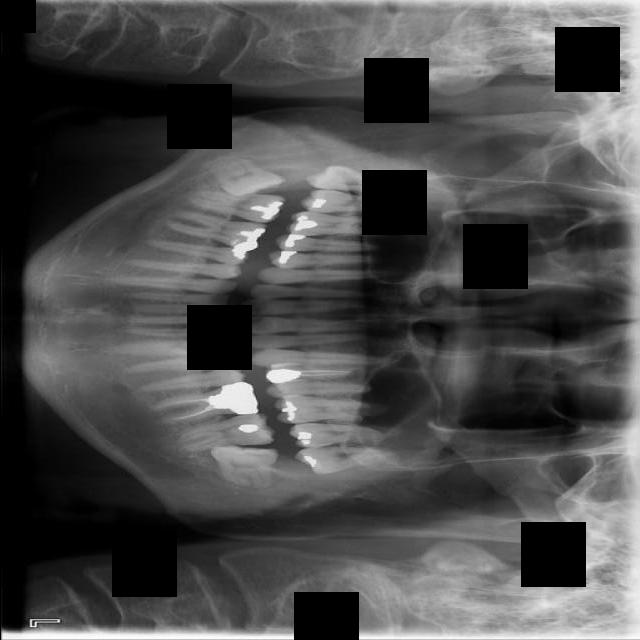3M ESPE Implant: (303, 163, 430, 197)
52: (214, 208, 269, 257), (210, 379, 259, 422), (230, 189, 285, 226), (292, 443, 349, 478), (224, 412, 276, 448), (273, 394, 322, 424), (287, 421, 336, 450), (284, 210, 335, 237), (298, 188, 350, 214), (262, 363, 300, 384), (207, 247, 248, 266), (274, 234, 313, 252), (267, 250, 303, 269)
73: (151, 389, 225, 428), (299, 363, 373, 382), (78, 580, 92, 584)
BioHorizons Implant: (288, 423, 401, 448)
BioLife Implant: (292, 442, 407, 476)
Biomet 3i Implant: (206, 443, 278, 491)
Blue Sky Bio Implant: (173, 411, 276, 454)
Caries: (299, 189, 422, 213)
Implant: (185, 190, 285, 224)
Keystone Dental Implant: (208, 154, 286, 200)
